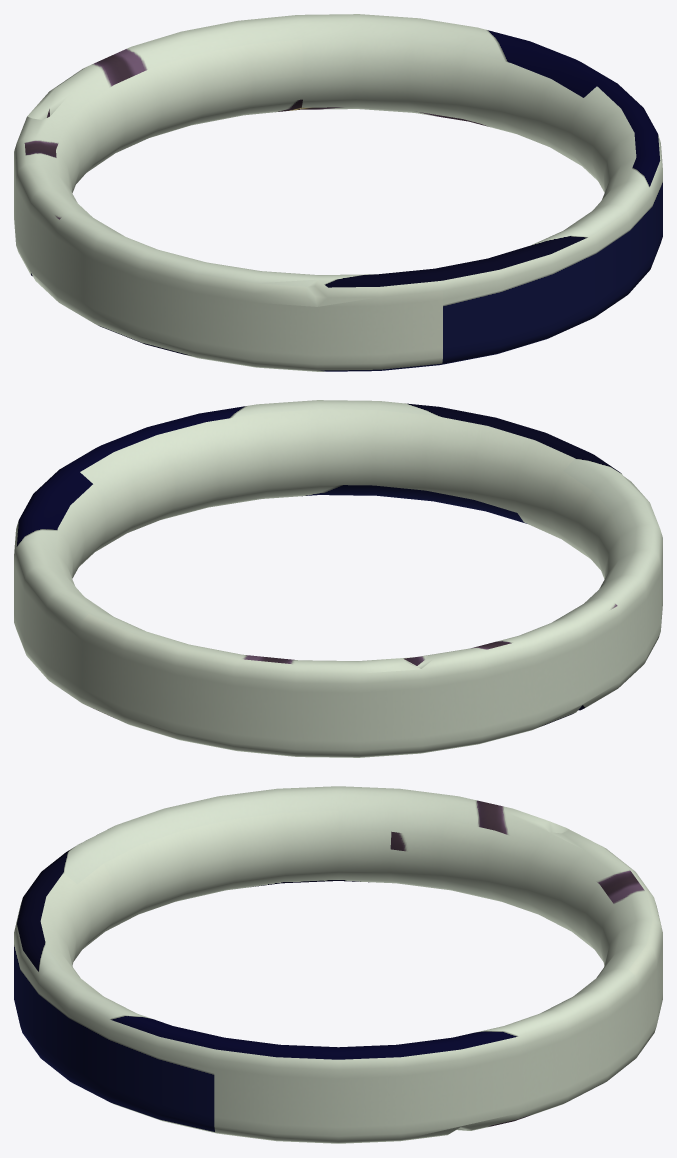
File: Ring.fbx
3 renders of one model, top to bottom at view 1: azimuth 30°, elevation 25°; view 2: azimuth 150°, elevation 25°; view 3: azimuth 270°, elevation 25°, orthographic.
Parts seen in each view (by area): view 1: Ring; view 2: Ring; view 3: Ring.
Part boxes in pixels (x1=…): Ring: x1=14, y1=14, x2=662, y2=371; Ring: x1=14, y1=400, x2=662, y2=757; Ring: x1=14, y1=786, x2=662, y2=1143.
Size of the model in its own units: 743 by 115 by 743.
